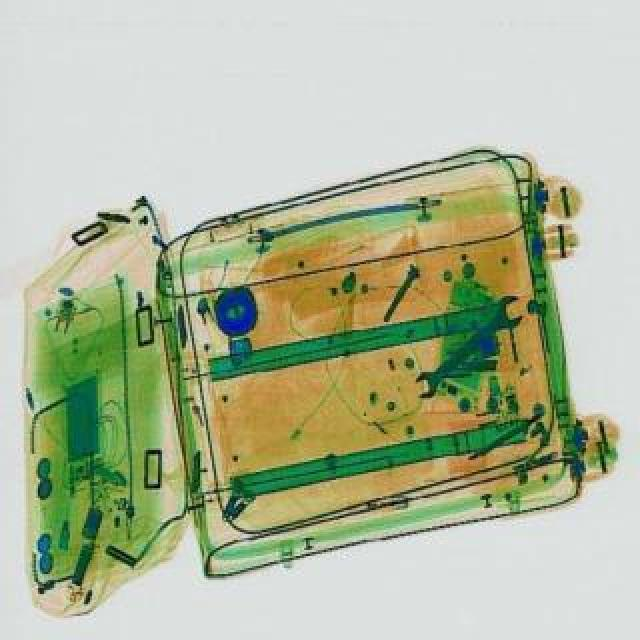scissors: (404, 290, 532, 402)
